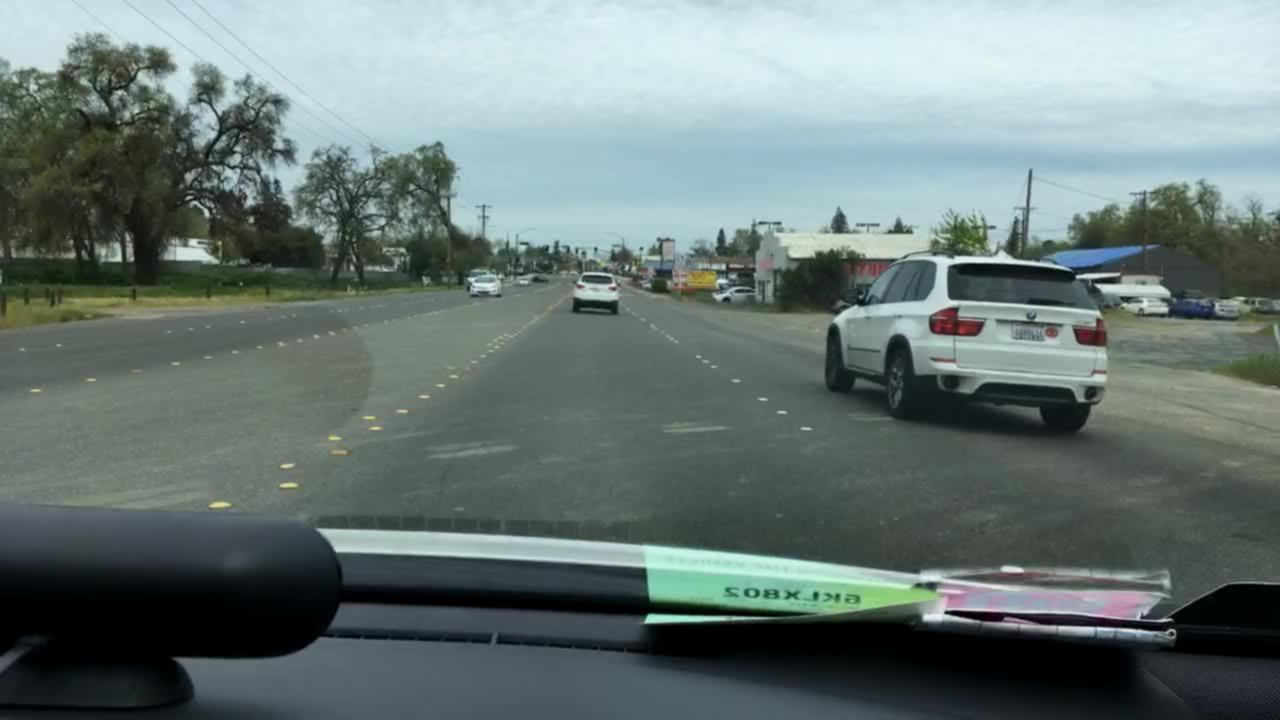bmw: (1021, 303, 1040, 325)
